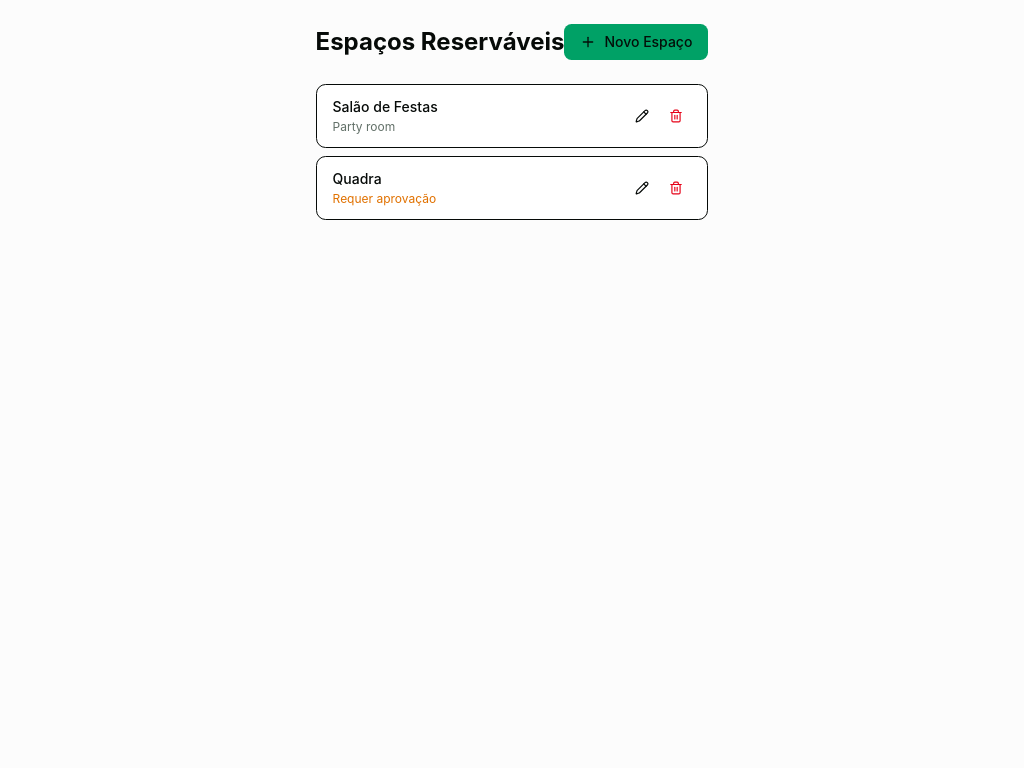
Scenario: ReservableSpacesPage › shows error on update failure
Click the button with class "lucide-pencil": (642, 116) left=627, top=100, right=657, bottom=132
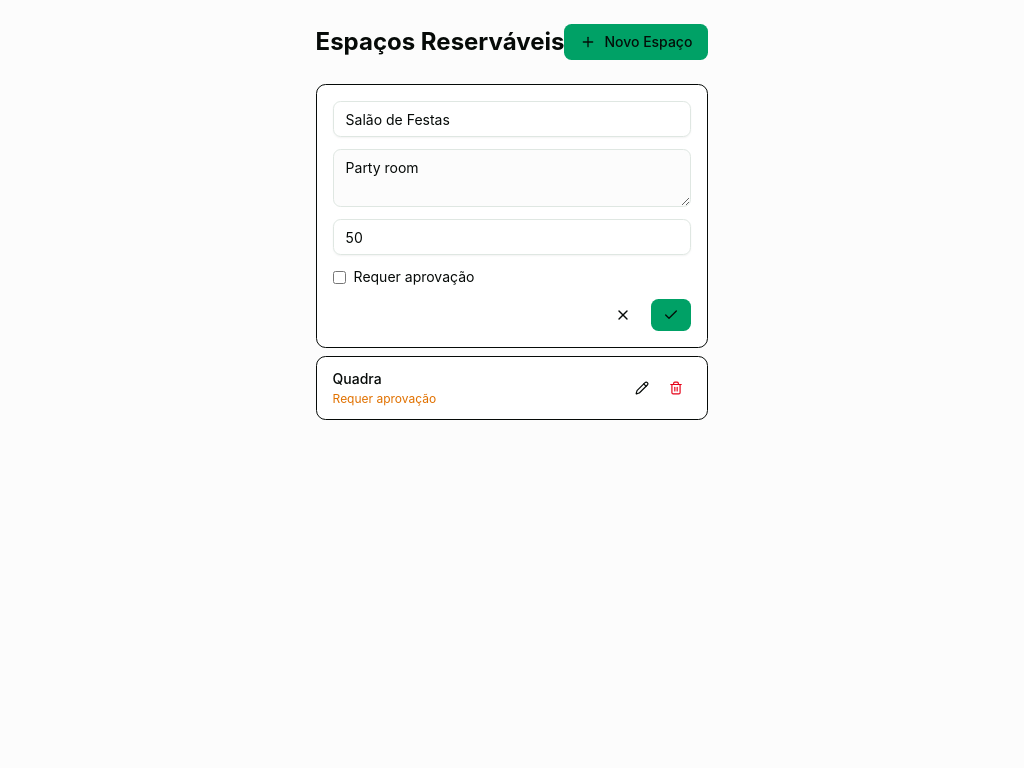
Click the button with class "lucide-check": (671, 315) left=651, top=299, right=691, bottom=331
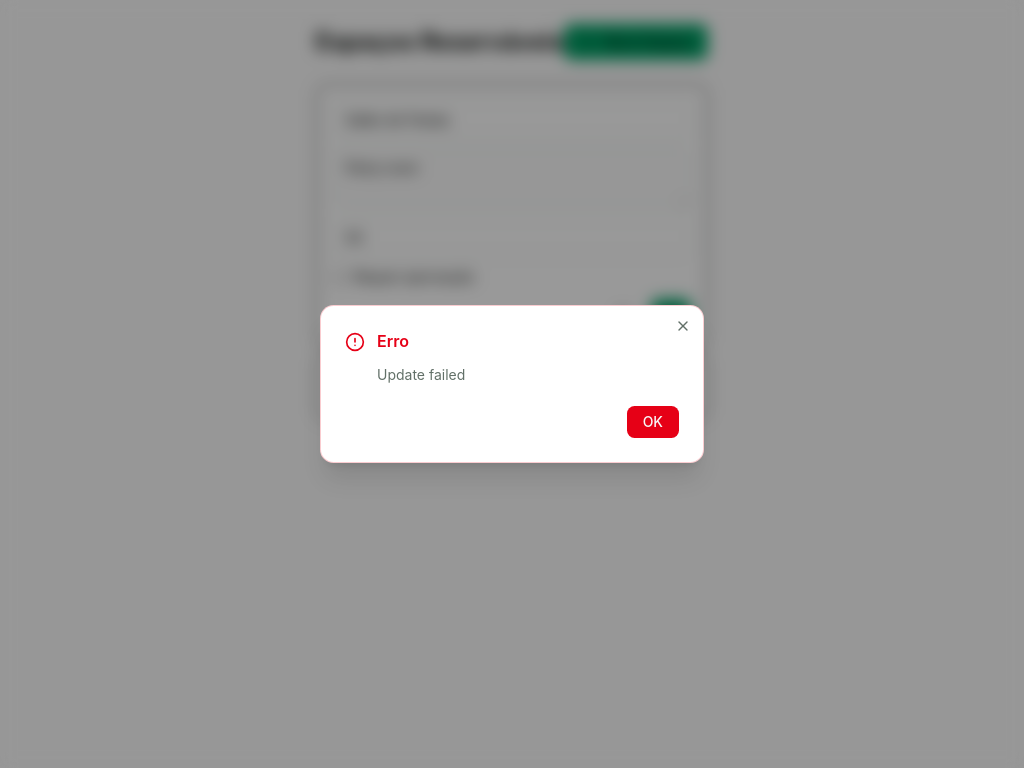
Check: the text "Update failed" is shown, box left=377, top=366, right=465, bottom=383
